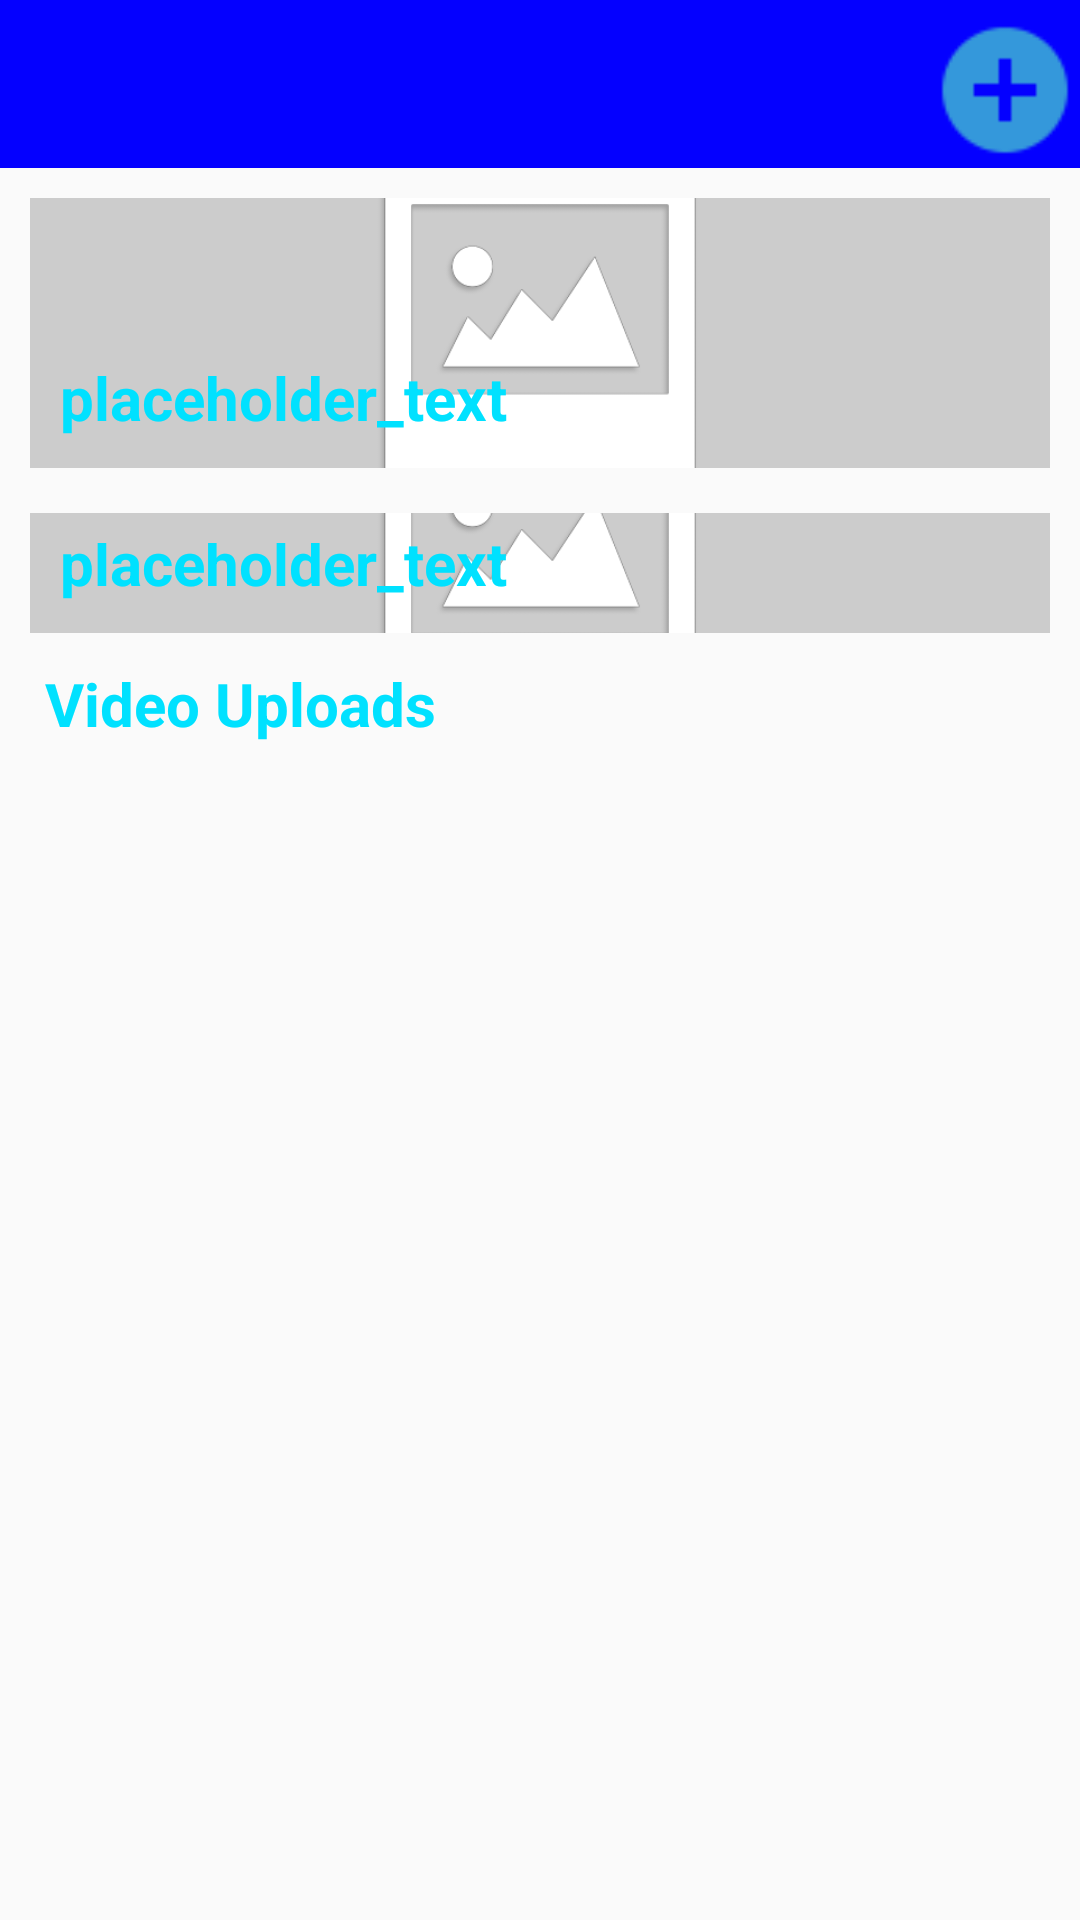

Where to tap for icons on this 1080 × 1920 app screen, as point (x, y):
post: point (1005, 90)
